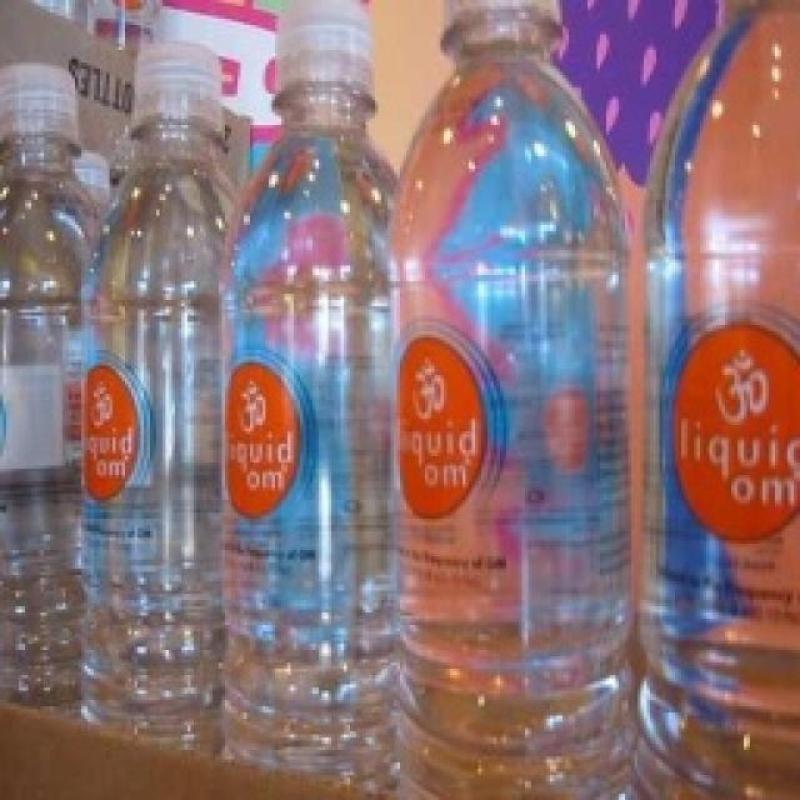botella: (400, 0, 640, 800), (637, 0, 800, 800), (238, 1, 400, 799), (95, 44, 243, 766), (0, 59, 100, 719), (75, 150, 113, 210)
